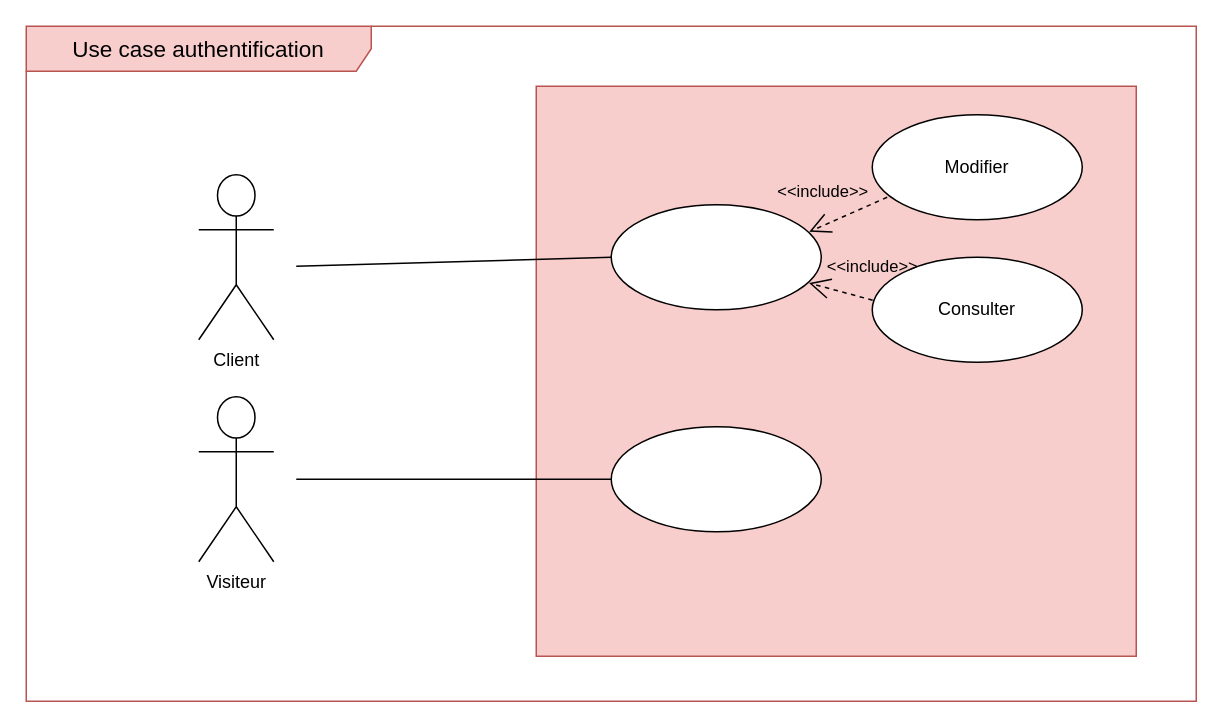
Some shapes in this 1223 by 728 pixel diagram are drawn without their labels. The box of each missing label's shape, as (x1, y1, x2, y2) in pixels:
S'inscrire: (610, 425, 821, 532)
Se connecter: (610, 203, 821, 310)
